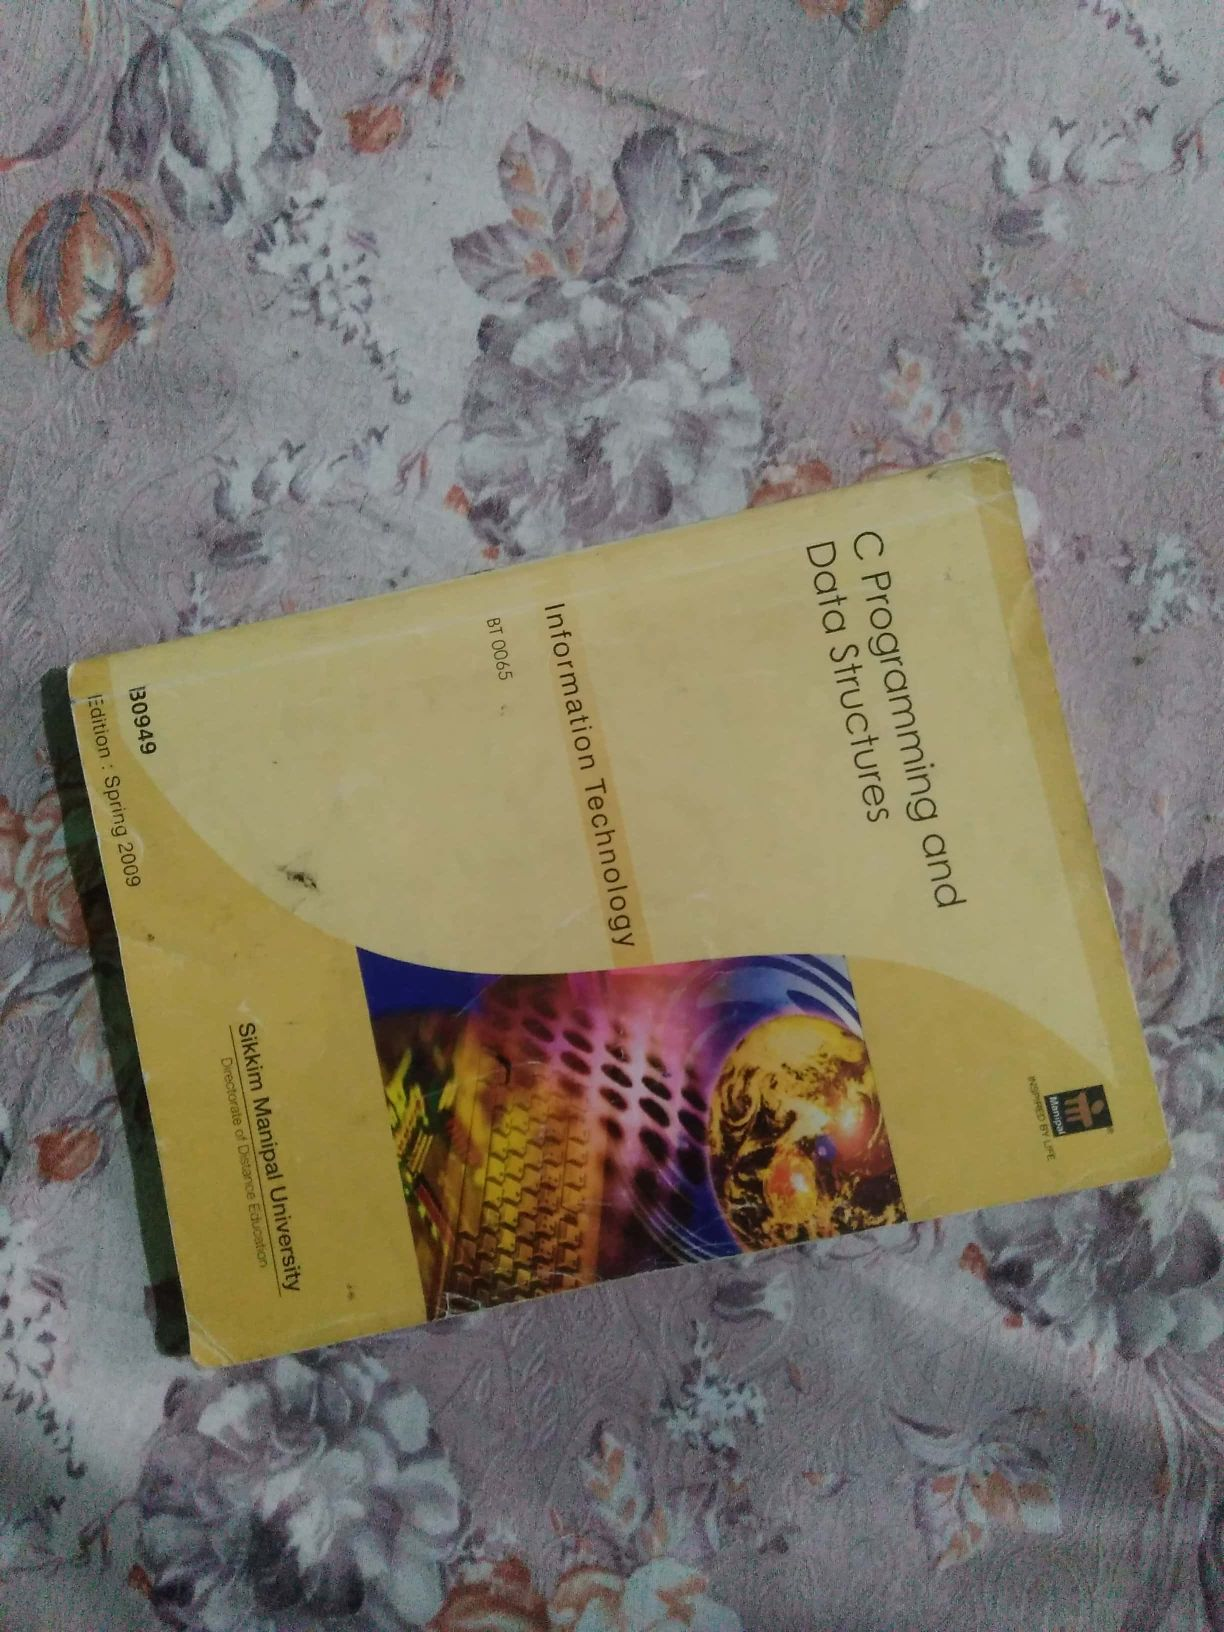clang: (71, 510, 1155, 1360)
